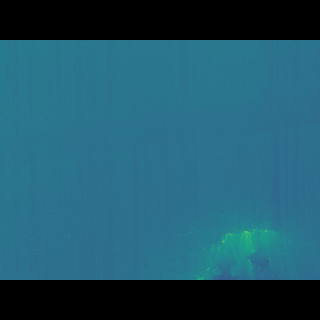Loch: (168, 167, 305, 250)
